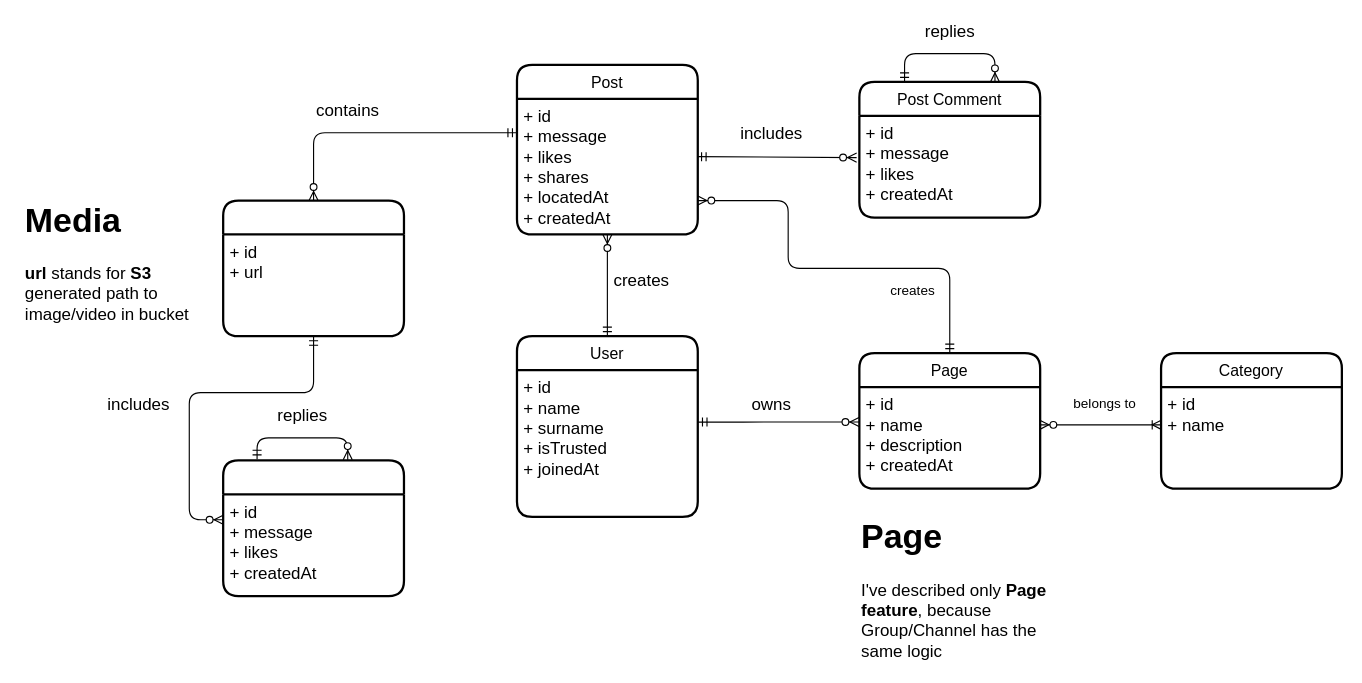
This 1362x683 diagram has some shape labels left out. Here are the shapes that lost their labels. From the top down, the box of each, then its label:
(221, 199, 405, 337): Media
(221, 459, 405, 597): Media Comment
